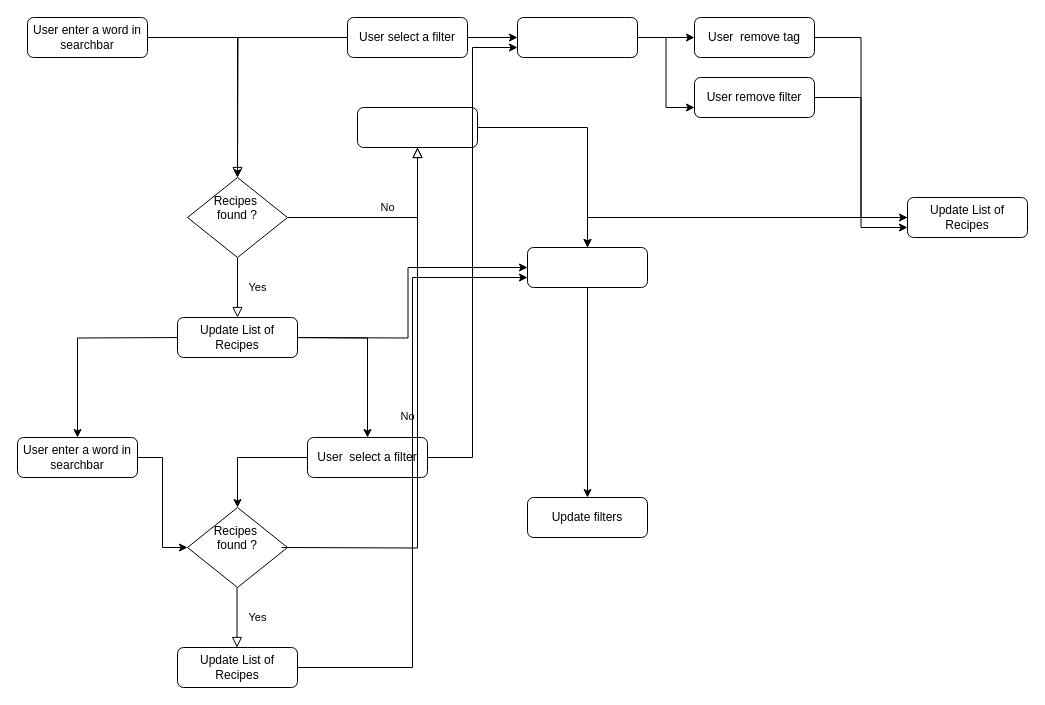
Image size: 1045x705. Some labels were removed from this diagram. Here are the shapes that lost their labels. From the top down, the box of each, then its label:
(516, 16, 638, 58): Create a tag
(356, 106, 478, 148): Message indicating no recipes found
(526, 246, 648, 288): Update number of recipes
